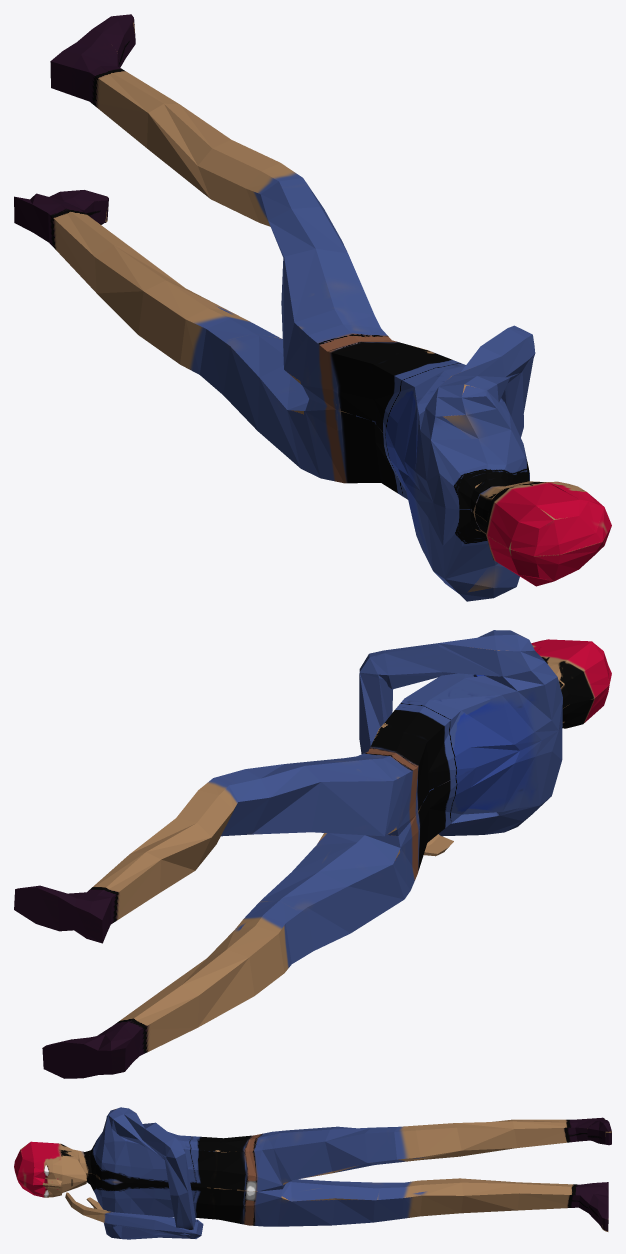
Rendered from mirrorman_000021.obj.
3 views of the same model, one above another, from view 1: azimuth 30°, elevation 25°; view 2: azimuth 150°, elevation 25°; view 3: azimuth 270°, elevation 25° (orthographic). The views are drawn at different scales.
Visible parts, largest first — view 1: mirrorman_Cube.001_Material.001; view 2: mirrorman_Cube.001_Material.001; view 3: mirrorman_Cube.001_Material.001.
Boxes of the visible parts, left/top/right/bottom form: mirrorman_Cube.001_Material.001: left=14, top=14, right=611, bottom=601; mirrorman_Cube.001_Material.001: left=14, top=630, right=611, bottom=1078; mirrorman_Cube.001_Material.001: left=14, top=1107, right=611, bottom=1239.
Bounding box in the file's own units: 0.3296 × 0.4638 × 1.9.
